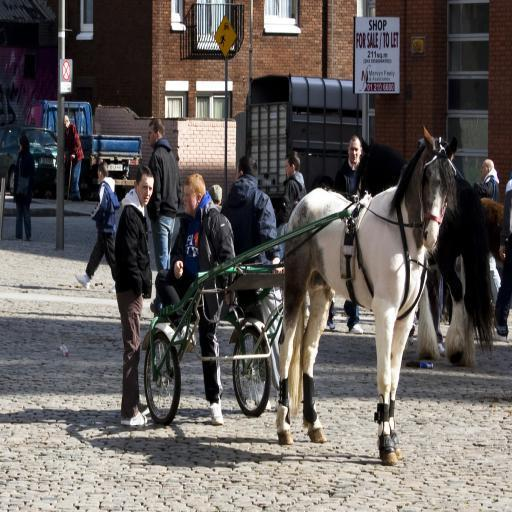horse: (276, 122, 459, 468), (419, 174, 497, 366)
